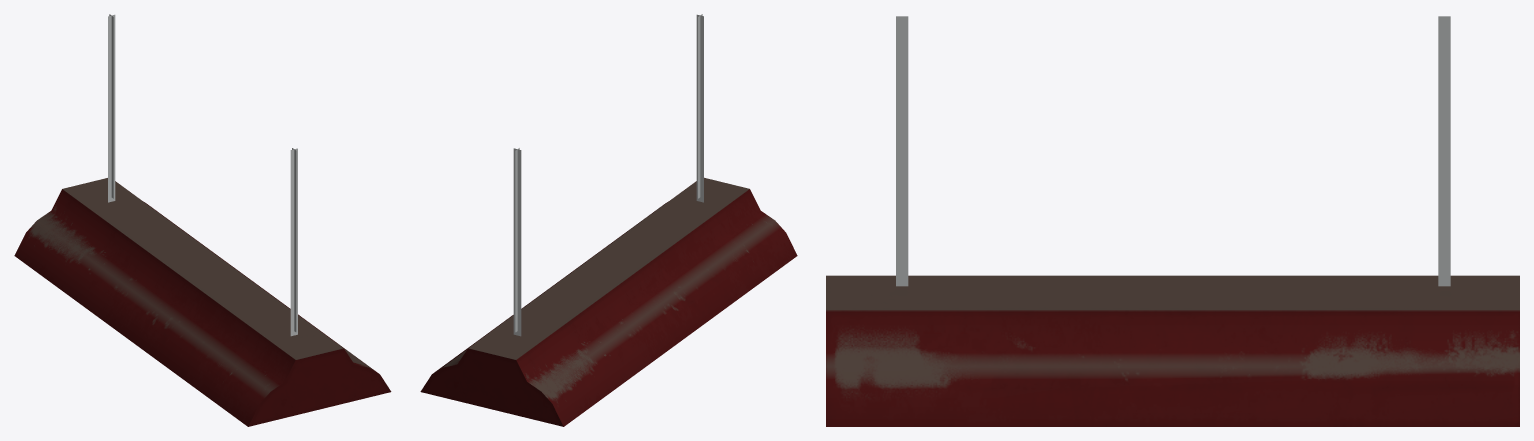
The model's file is CR_Biglamp1.fbx.
3 renders of one model, left to right at view 1: azimuth 30°, elevation 25°; view 2: azimuth 150°, elevation 25°; view 3: azimuth 270°, elevation 25°, orthographic. The views are drawn at different scales.
Visible parts, largest first — view 1: Biglamp1; view 2: Biglamp1; view 3: Biglamp1.
Boxes of the visible parts, left/top/right/bottom form: Biglamp1: left=14, top=14, right=391, bottom=426; Biglamp1: left=420, top=14, right=797, bottom=426; Biglamp1: left=826, top=16, right=1519, bottom=426.
Bounding box in the file's own units: 71.77 × 115 × 203.
